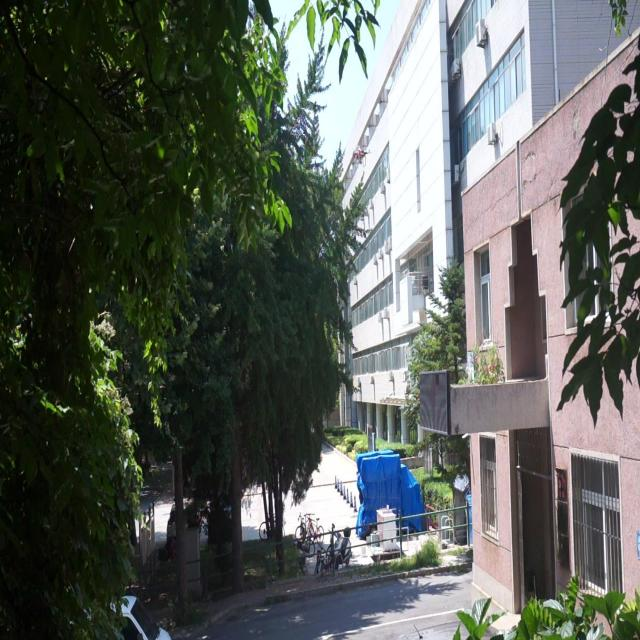UAV: (348, 145, 376, 167)
